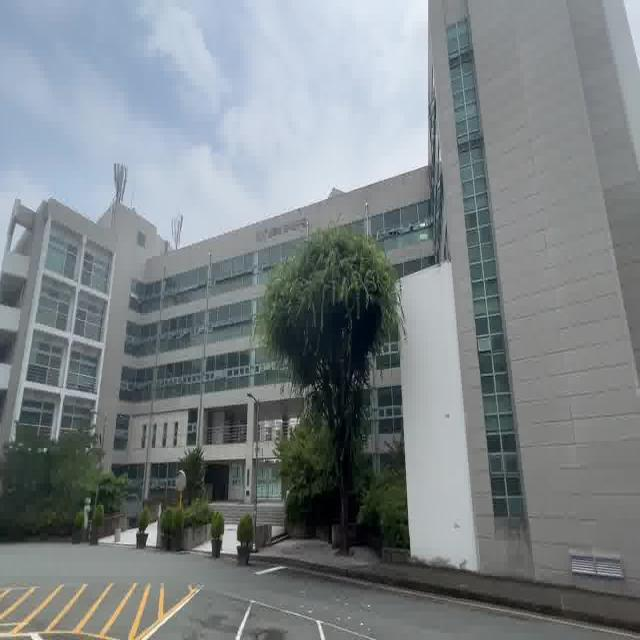building: (397, 23, 633, 566)
